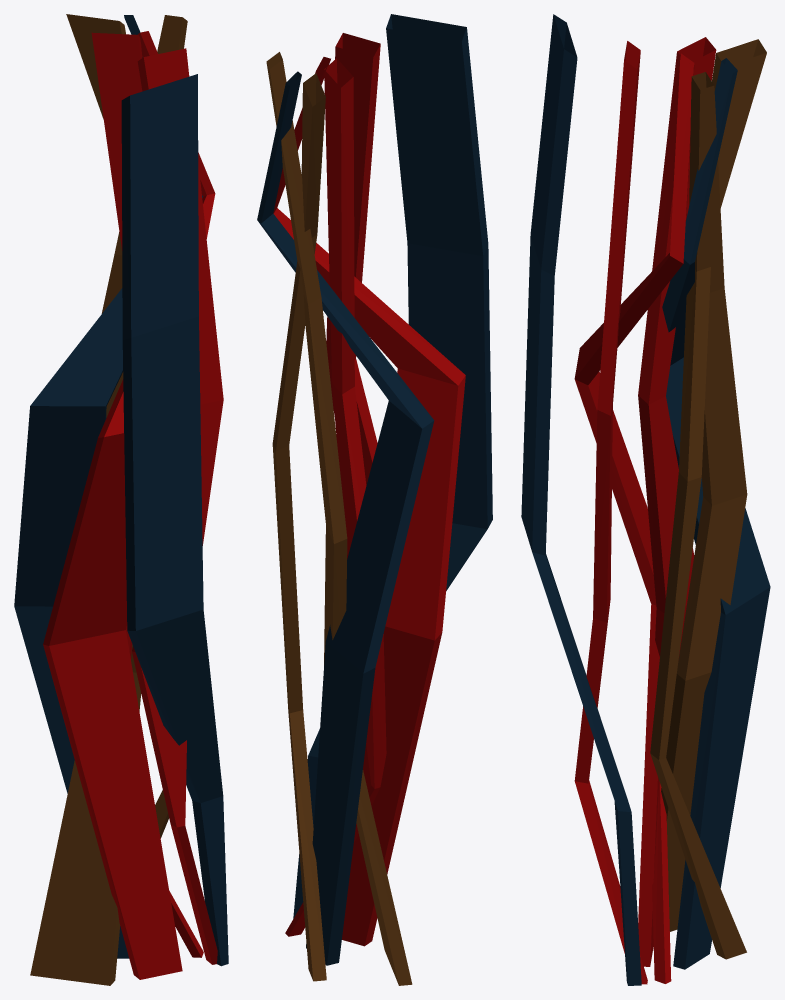
Rendered from bachClean1.glb.
3 renders of one model, left to right at view 1: azimuth 30°, elevation 25°; view 2: azimuth 150°, elevation 25°; view 3: azimuth 270°, elevation 25°, orthographic. The views are drawn at different scales.
Visible parts, largest first — view 1: bach3, bach6, bach2, bach4, bach5; view 2: bach3, bach6, bach2, bach4, bach5; view 3: bach4, bach6, bach2, bach3, bach5.
Part boxes in pixels (left/top/right/bottom): bach3: left=121, top=74, right=228, bottom=966; bach6: left=43, top=31, right=223, bottom=979; bach2: left=14, top=15, right=203, bottom=958; bach4: left=30, top=14, right=187, bottom=985; bach5: left=91, top=32, right=203, bottom=957; bach3: left=293, top=14, right=492, bottom=918; bach6: left=273, top=33, right=465, bottom=946; bach2: left=257, top=71, right=434, bottom=965; bach4: left=266, top=52, right=412, bottom=985; bach5: left=285, top=58, right=386, bottom=936; bach4: left=650, top=39, right=766, bottom=959; bach6: left=574, top=41, right=694, bottom=984; bach2: left=662, top=58, right=770, bottom=969; bach3: left=521, top=14, right=641, bottom=985; bach5: left=638, top=37, right=716, bottom=983.
Size of the model in its own units: 2.94 by 14.49 by 3.59.
